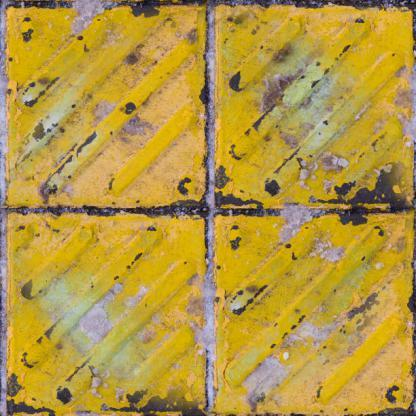podotacti: (7, 9, 414, 409)
